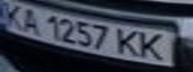1: (39, 11, 63, 40)
2: (54, 16, 78, 45)
5: (72, 19, 93, 48)
7: (90, 22, 115, 52)
A: (15, 7, 45, 35)
K: (133, 29, 175, 62), (112, 26, 145, 59), (0, 1, 30, 28)
